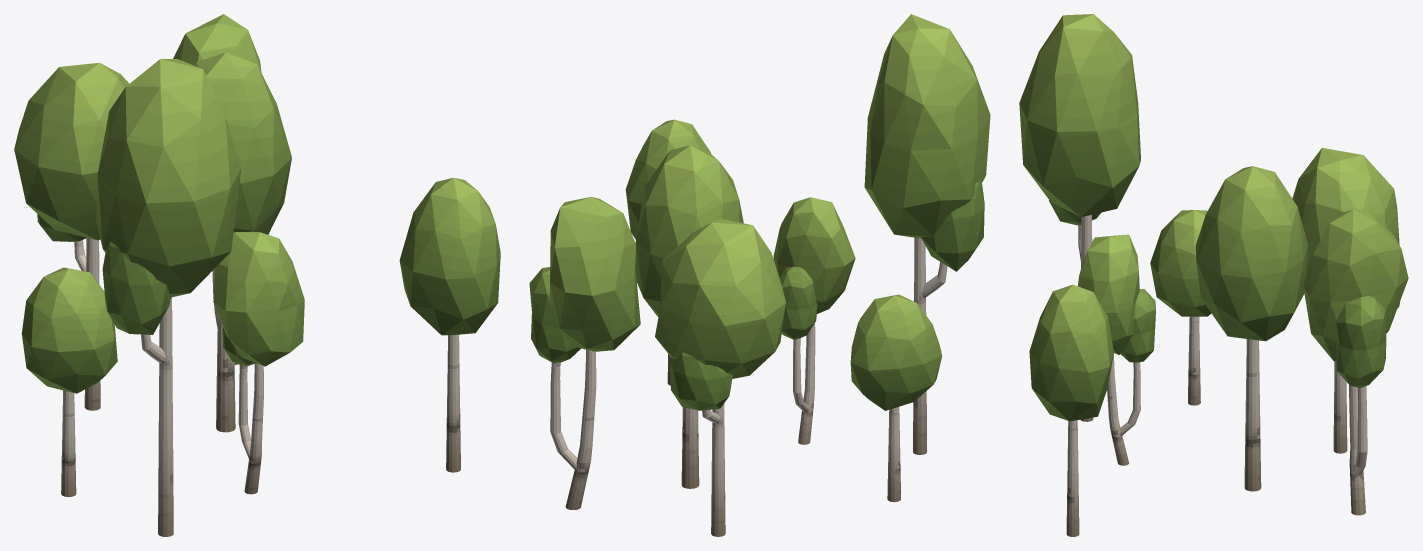
Rendered from birch_tree_group1.gltf.
3 views of the same model, side by side, from view 1: azimuth 30°, elevation 25°; view 2: azimuth 150°, elevation 25°; view 3: azimuth 270°, elevation 25° (orthographic). The views are drawn at different scales.
Parts seen in each view (by area): view 1: Tree3.002, Tree3.001, Tree1.003, Tree2.001, Tree1.002, Tree1.001, Tree2.002; view 2: Tree3.002, Tree3.001, Tree2.002, Tree1.002, Tree2.001, Tree1.001, Tree1.003; view 3: Tree3.002, Tree1.002, Tree2.002, Tree1.003, Tree2.001, Tree3.001, Tree1.001.
Boxes of the visible parts, x1,y1,x2,y2 form: Tree3.002: (96, 59, 241, 536); Tree3.001: (14, 62, 129, 410); Tree1.003: (399, 177, 500, 472); Tree2.001: (213, 231, 304, 494); Tree1.002: (194, 52, 291, 432); Tree1.001: (21, 267, 117, 496); Tree2.002: (173, 14, 261, 364); Tree3.002: (864, 14, 990, 454); Tree3.001: (655, 218, 786, 536); Tree2.002: (529, 196, 640, 509); Tree1.002: (635, 145, 743, 488); Tree2.001: (773, 197, 855, 444); Tree1.001: (850, 294, 942, 502); Tree1.003: (625, 119, 710, 385); Tree3.002: (1019, 14, 1140, 421); Tree1.002: (1195, 166, 1308, 491); Tree2.002: (1303, 208, 1408, 515); Tree1.003: (1029, 284, 1113, 536); Tree2.001: (1078, 234, 1155, 465); Tree3.001: (1292, 148, 1399, 453); Tree1.001: (1150, 210, 1211, 405).
Bounding box in the file's own units: 13.64 × 15.36 × 13.3.
1 material, 1 textured.
